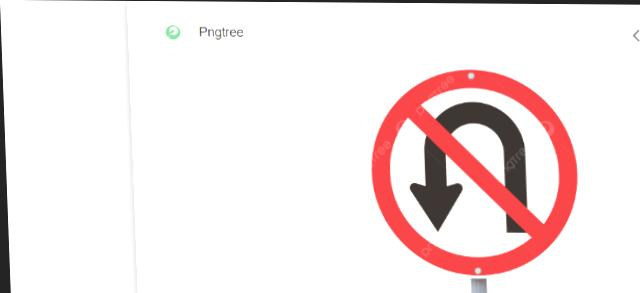not_u_turn_left: (363, 65, 582, 272)
